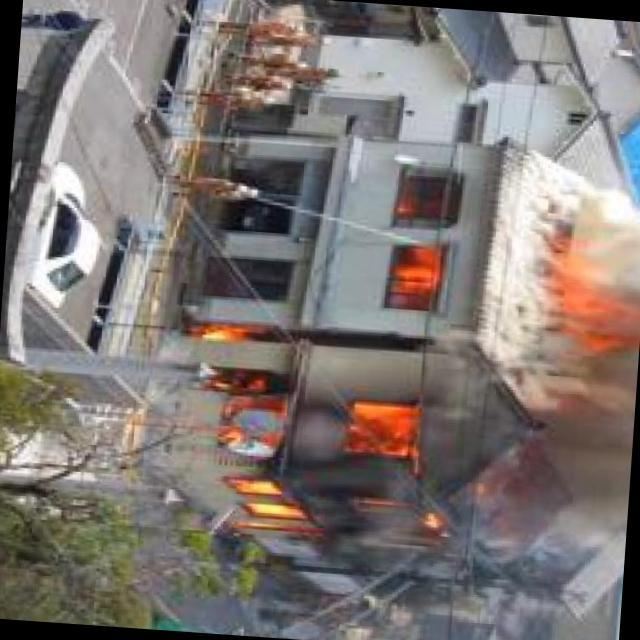Fire: (183, 317, 462, 565), (546, 225, 640, 354), (387, 189, 447, 314)
